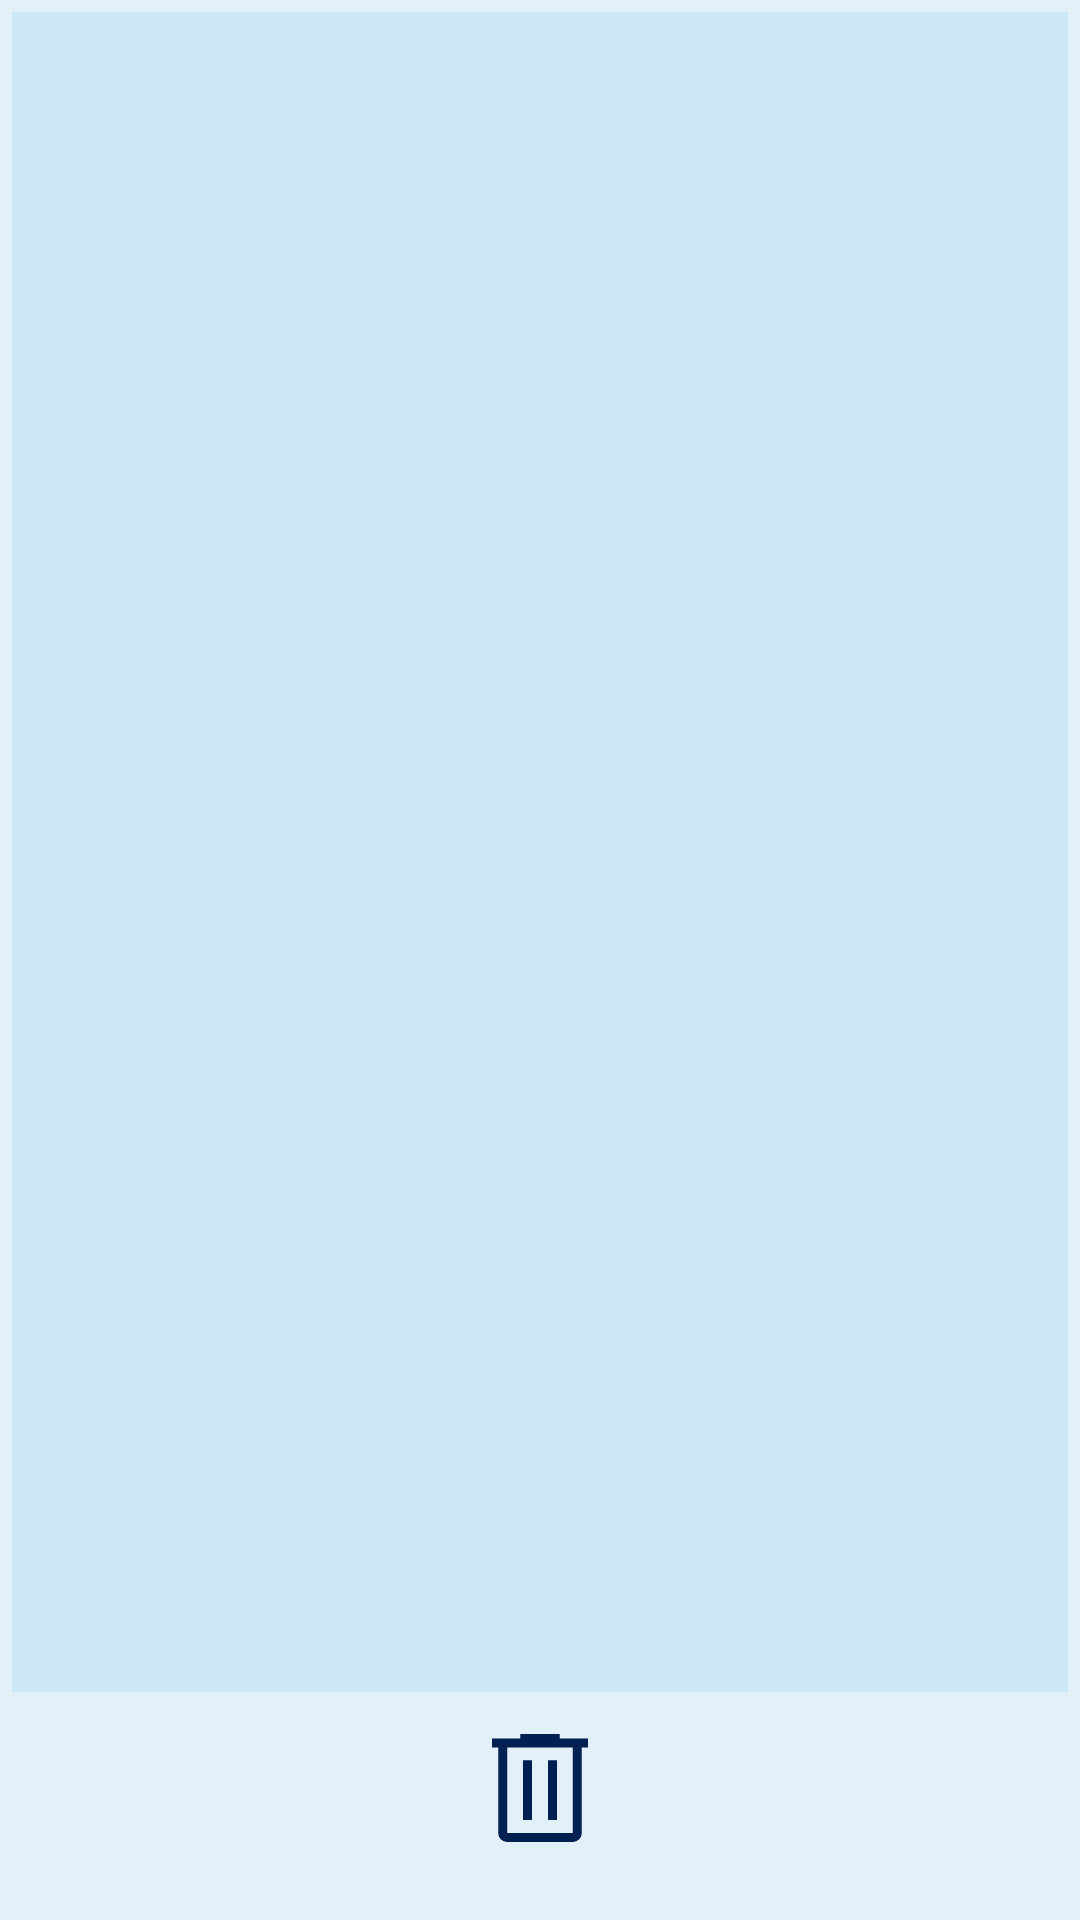

Named icons in this screenshot (1080×1920) and their bounding boxes, (x1, y1, x2, y2):
Delete pictures in picture list: (492, 1734, 588, 1842)
